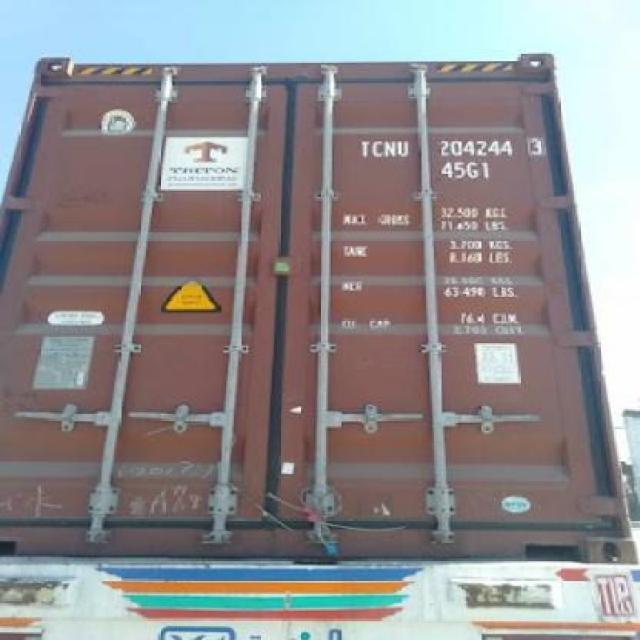ISO: (440, 162, 493, 182)
container_number: (360, 136, 538, 158)
